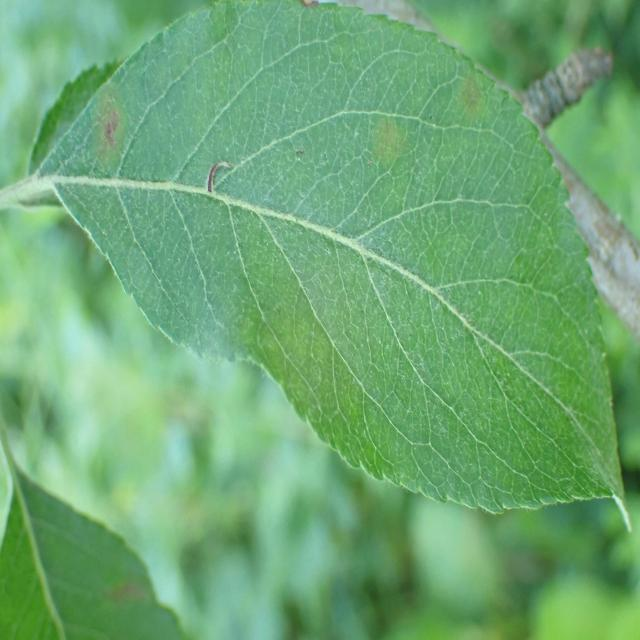scab: (86, 51, 586, 482)
